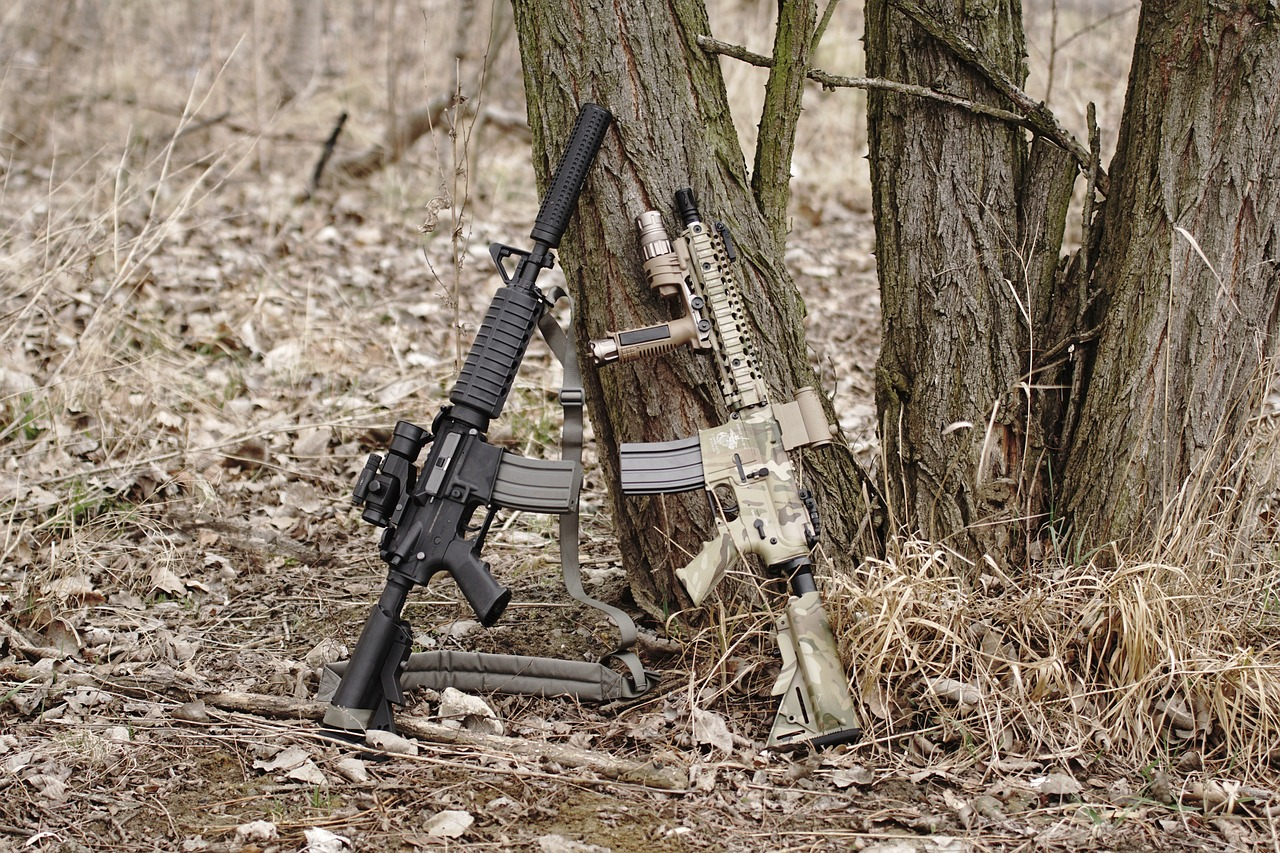gun: (311, 97, 619, 743), (582, 183, 867, 757)
